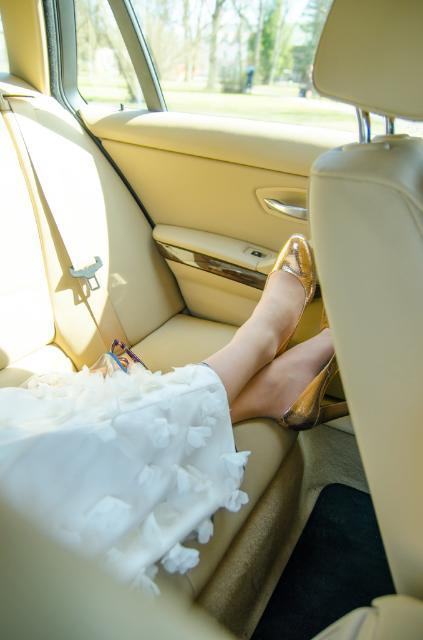Seatbelt: (1, 98, 137, 354), (8, 96, 130, 358)
